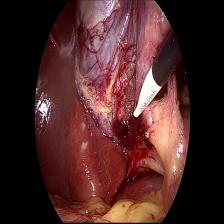Hook: (132, 66, 161, 125)
